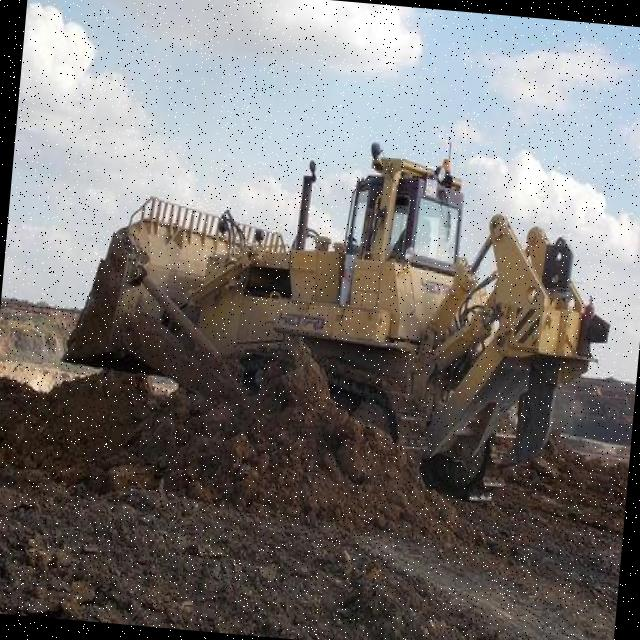Bulldozer: (48, 91, 630, 531)
